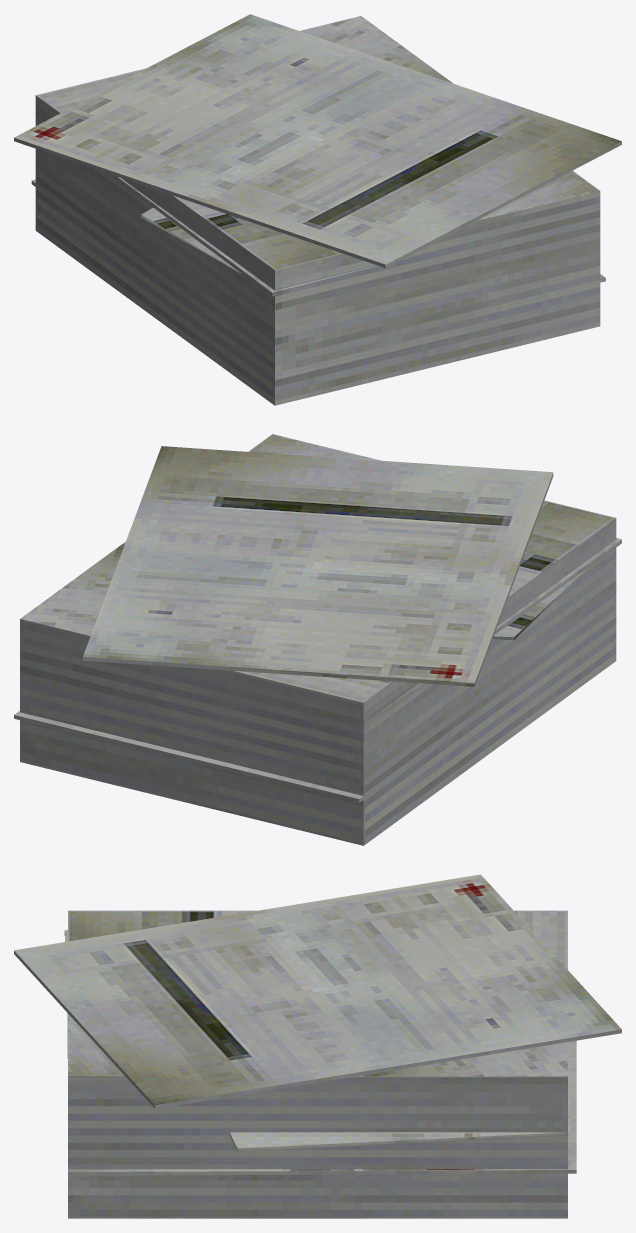
Rendered from SM_PaperPile_1.fbx.
The picture shows the model from 3 angles, top to bottom: view 1: azimuth 30°, elevation 25°; view 2: azimuth 150°, elevation 25°; view 3: azimuth 270°, elevation 25°; orthographic projection. The views are drawn at different scales.
Visible parts, largest first — view 1: SM_PaperPile_1; view 2: SM_PaperPile_1; view 3: SM_PaperPile_1.
Part boxes in pixels (bbox=[...]): SM_PaperPile_1: bbox=[14, 14, 621, 405]; SM_PaperPile_1: bbox=[14, 434, 621, 845]; SM_PaperPile_1: bbox=[14, 874, 621, 1218].
Size of the model in its own units: 30.59 by 8.99 by 34.03.
